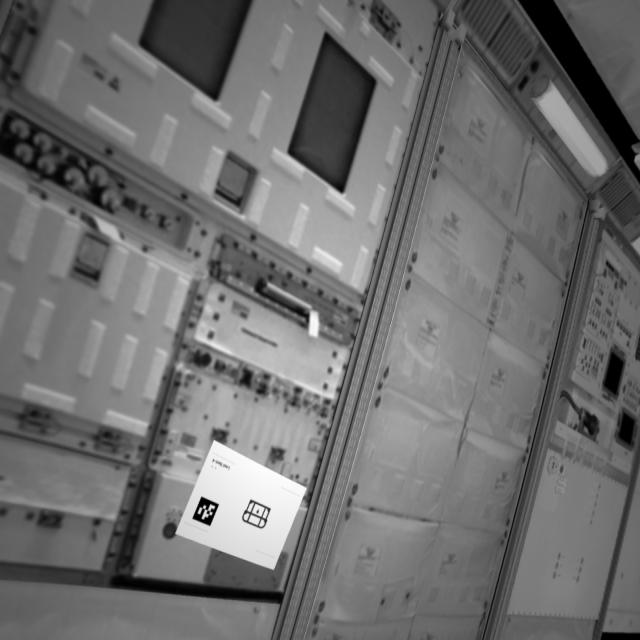treasure_box: (242, 499, 273, 532)
